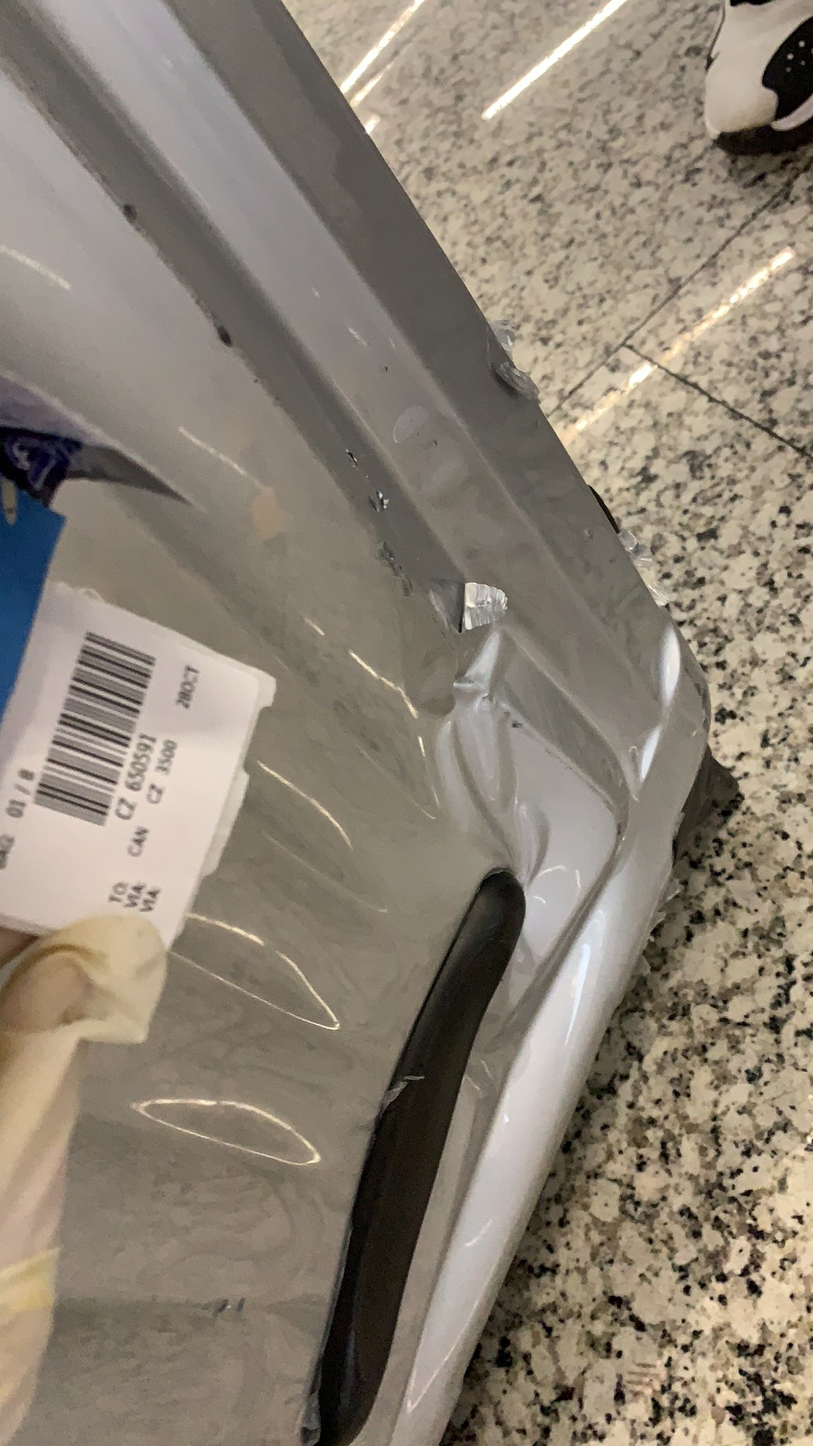rupture: (367, 889, 571, 1191)
